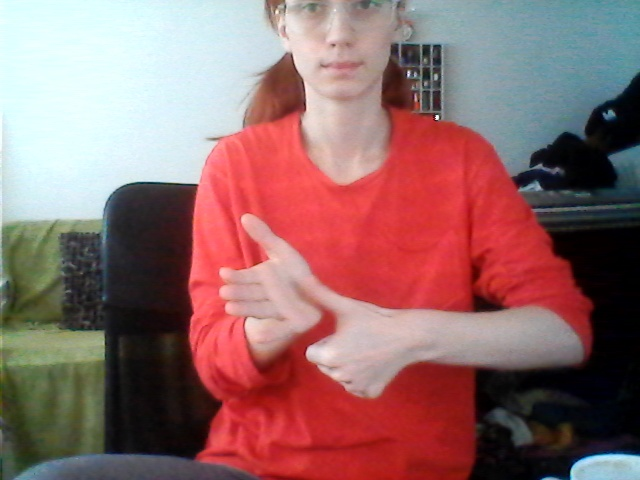pivo: (213, 207, 406, 406)
